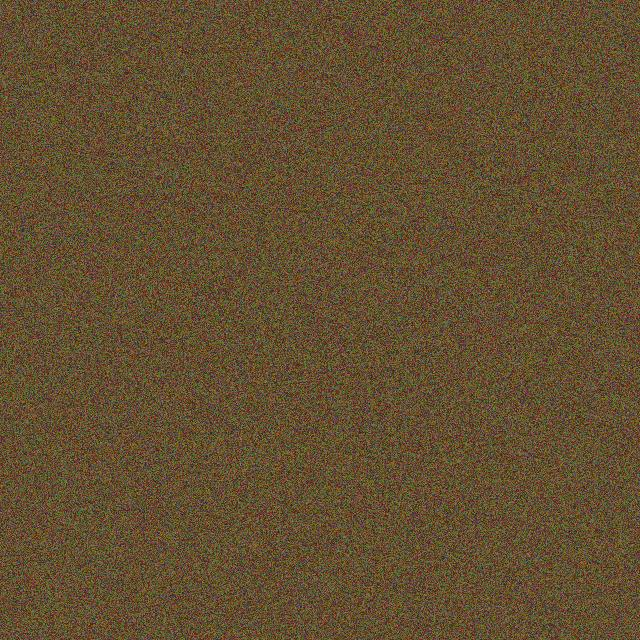unknown_man_made_object: (173, 438, 299, 518)
